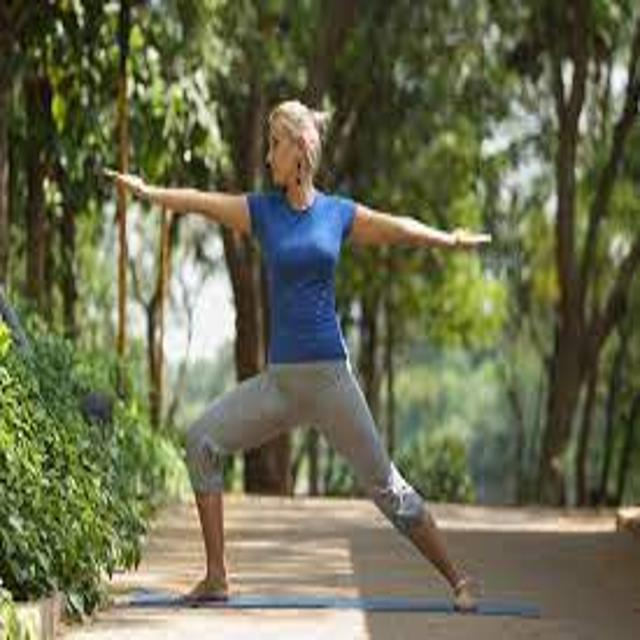Warrior_II: (103, 101, 503, 619)
